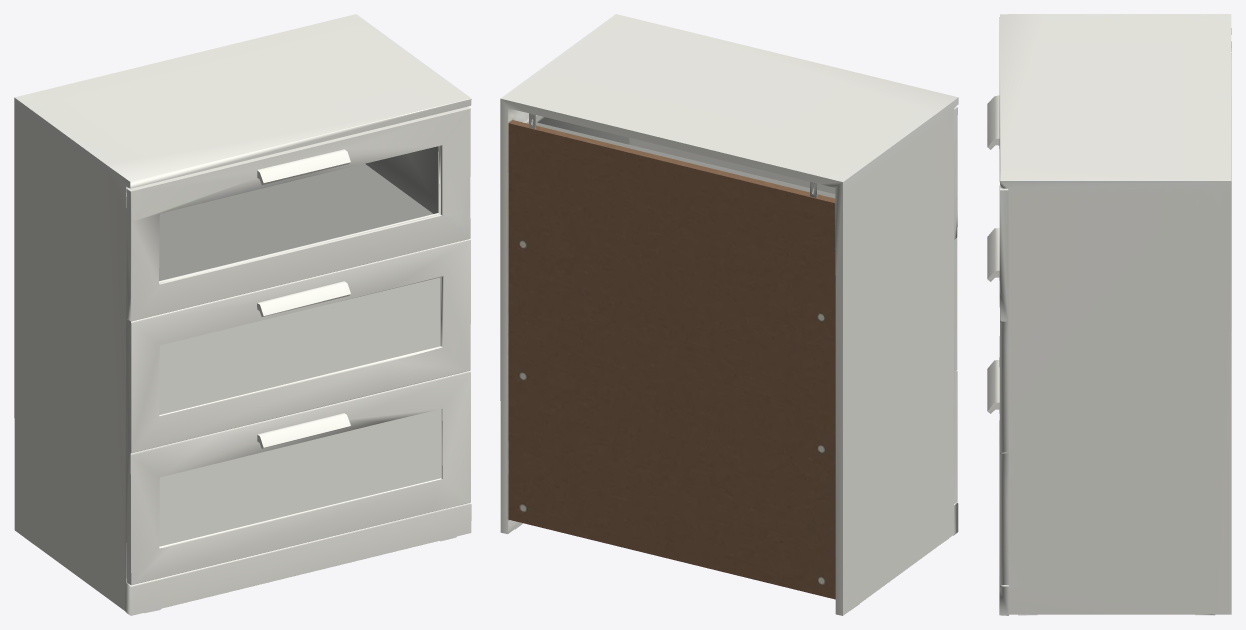
Rendered from 11 - BRIMNES - 抽屜櫃3抽，白色霧面玻璃，78x46x95 公分 IKEA 線上購物.glb.
The picture shows the model from 3 angles, left to right: view 1: azimuth 30°, elevation 25°; view 2: azimuth 150°, elevation 25°; view 3: azimuth 270°, elevation 25°; orthographic projection.
Parts seen in each view (by area): view 1: 1; view 2: 1; view 3: 1.
Part boxes in pixels (<box>): 1: <box>14,14,471,615</box>; 1: <box>500,14,958,615</box>; 1: <box>987,14,1231,615</box>.
Size of the model in its own units: 0.7817 by 0.9525 by 0.4835.
Materials: 3 (3 with a texture image).
